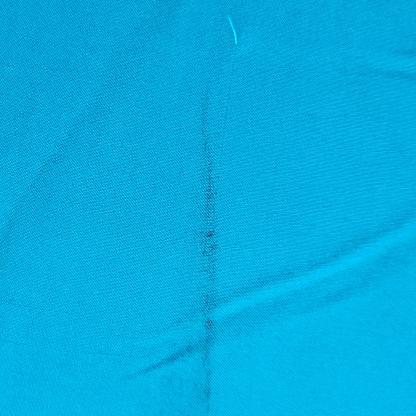spot: (193, 208, 226, 266), (198, 298, 220, 371), (201, 170, 223, 212)
